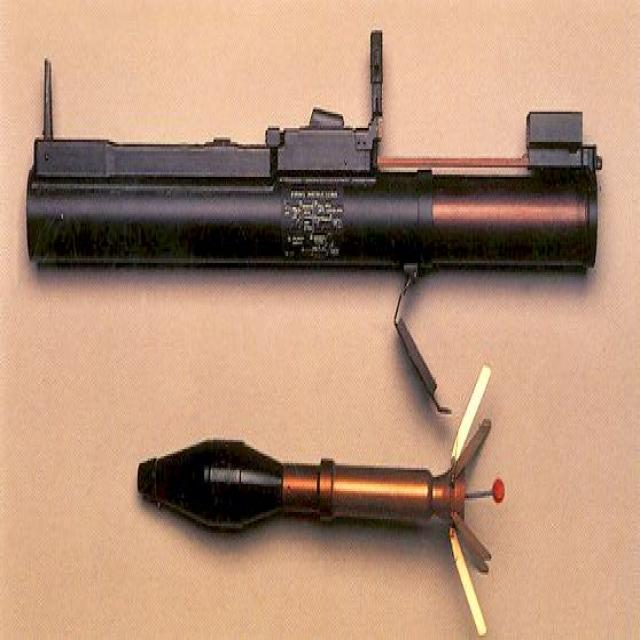bazooka: (25, 47, 605, 386)
